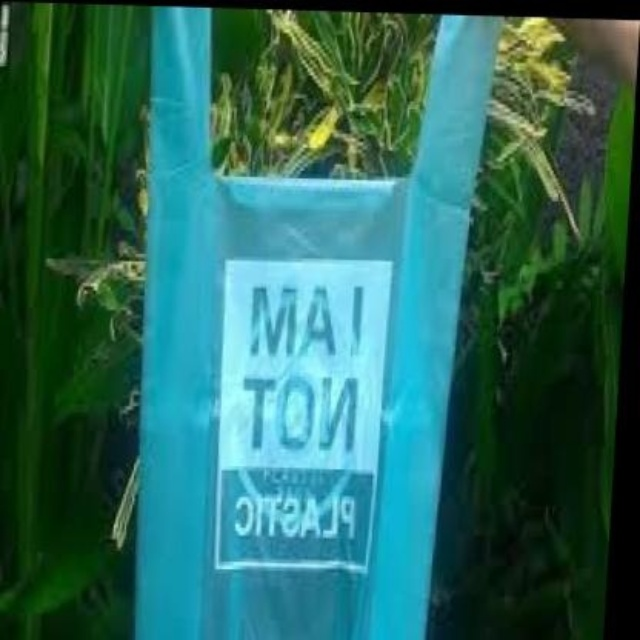trash: (135, 8, 495, 638), (220, 468, 372, 560)
